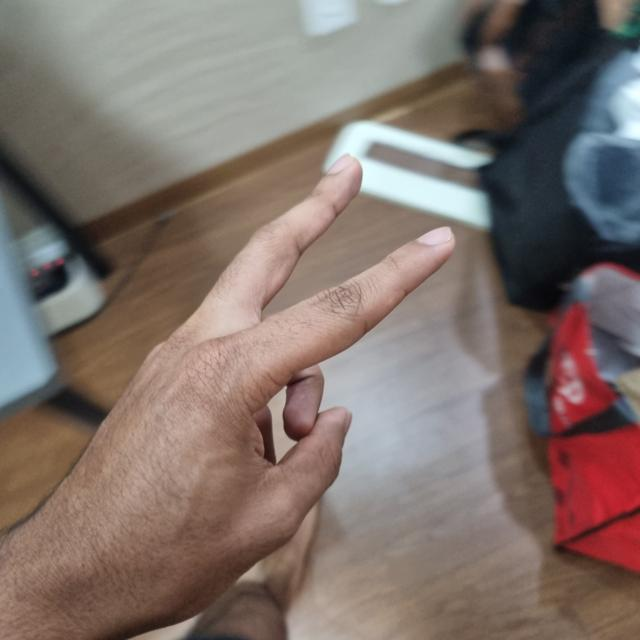Scissors: (34, 167, 451, 633)
